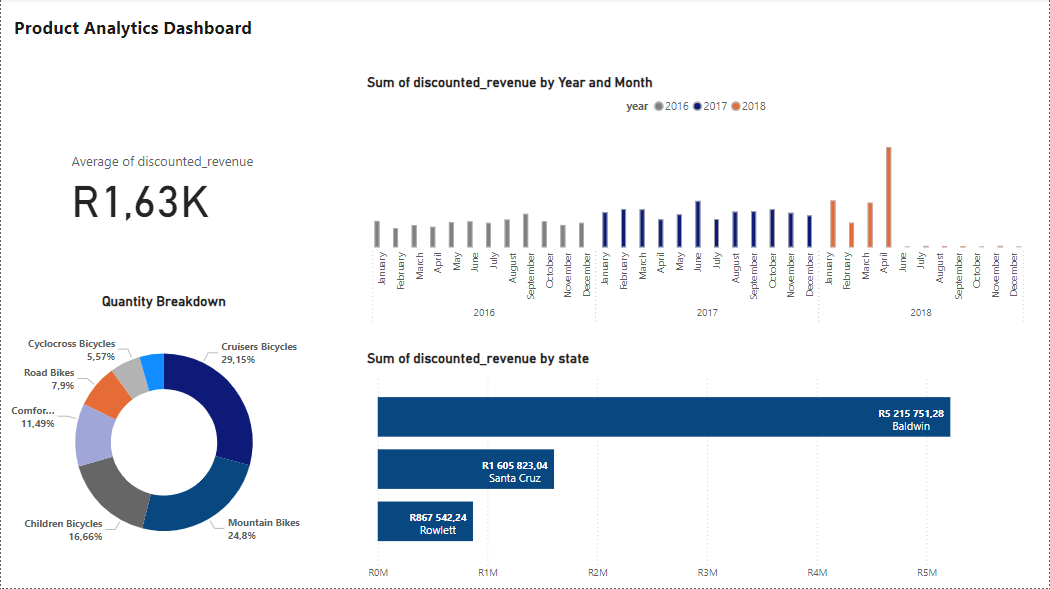

The dashboard page shown, as its layout file describes it:
{"tool":"powerbi","page":{"name":"Page 1","canvas":[1280,720],"ordinal":0},"visuals":[{"type":"clusteredColumnChart","title":"Sum of discounted_revenue by Year and Month","fields":{"Y":["Query1.discounted_revenue"],"Series":["Query1.year"],"Category":["Query1.order_date.Variation.Date Hierarchy.Year","Query1.order_date.Variation.Date Hierarchy.Month"]},"box":[441.8,92.7,817.6,313.6],"z":2000},{"type":"cardVisual","fields":{"Data":["Query1.discounted_revenue"]},"box":[11,104.6,375.7,256],"z":3000},{"type":"clusteredBarChart","fields":{"Y":["Query1.discounted_revenue"],"Category":["Query1.state"]},"box":[441.8,429.4,817.5,290.4],"z":4000},{"type":"donutChart","title":"Quantity Breakdown","fields":{"Category":["Query1.category_name"],"Y":["Query1.quantity"]},"box":[11,360.6,375.7,345.5],"z":5000},{"type":"textbox","title":"Product Analytics  Dashboard","box":[11,20.6,302.8,34.4],"z":5001}]}

Visuals, with their boxes in screenshot pixels (x1, y1, x2, y2), scaled from the page's 1280x720 canvas onto the 1050x589 screenshot:
"Sum of discounted_revenue by Year and Month" clusteredColumnChart: bbox(362, 76, 1033, 332)
cardVisual - Query1.discounted_revenue: bbox(9, 86, 317, 295)
clusteredBarChart - Query1.discounted_revenue x Query1.state: bbox(362, 351, 1033, 588)
"Quantity Breakdown" donutChart: bbox(9, 295, 317, 578)
"Product Analytics  Dashboard" textbox: bbox(9, 17, 257, 45)
